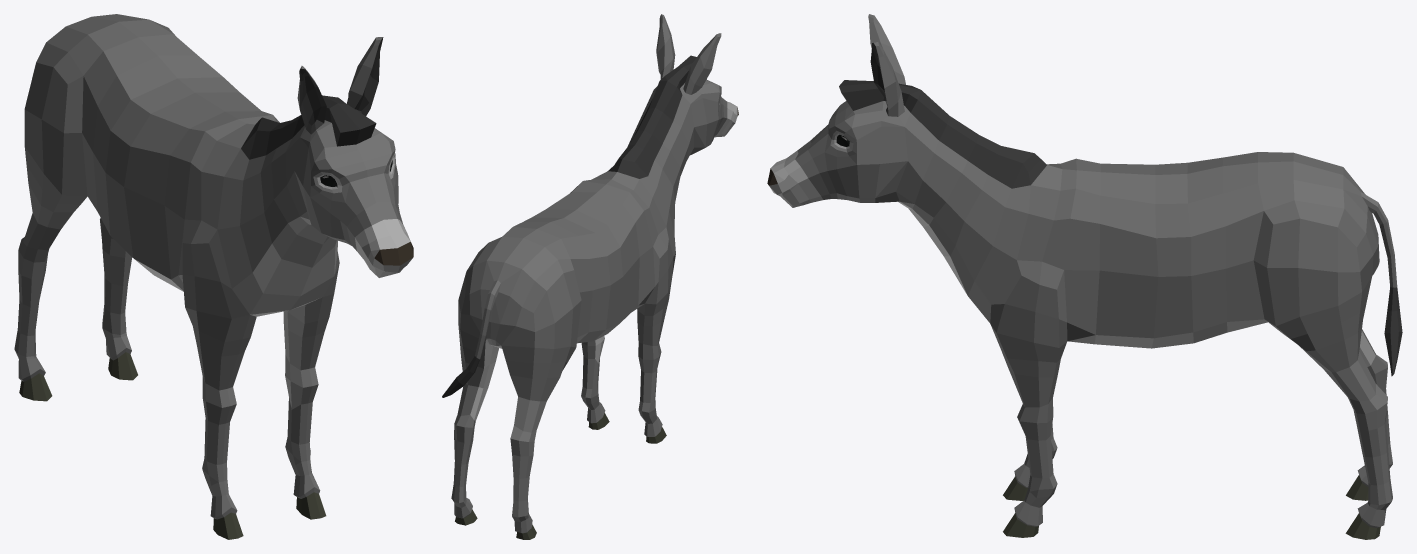
File: Donkey.glb
The picture shows the model from 3 angles, left to right: view 1: azimuth 30°, elevation 25°; view 2: azimuth 150°, elevation 25°; view 3: azimuth 270°, elevation 25°; orthographic projection. The views are drawn at different scales.
Visible parts, largest first — view 1: Donkey_Cube; view 2: Donkey_Cube; view 3: Donkey_Cube.
Boxes of the visible parts, x1,y1,x2,y2 form: Donkey_Cube: [14, 14, 413, 539]; Donkey_Cube: [442, 14, 738, 539]; Donkey_Cube: [767, 14, 1402, 539].
Bounding box in the file's own units: 1.16 × 4.02 × 4.75.
Materials: 1 (1 with a texture image).
